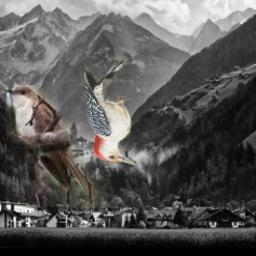Cuckoo: (5, 86, 106, 209)
Woodpecker: (83, 56, 140, 166)
